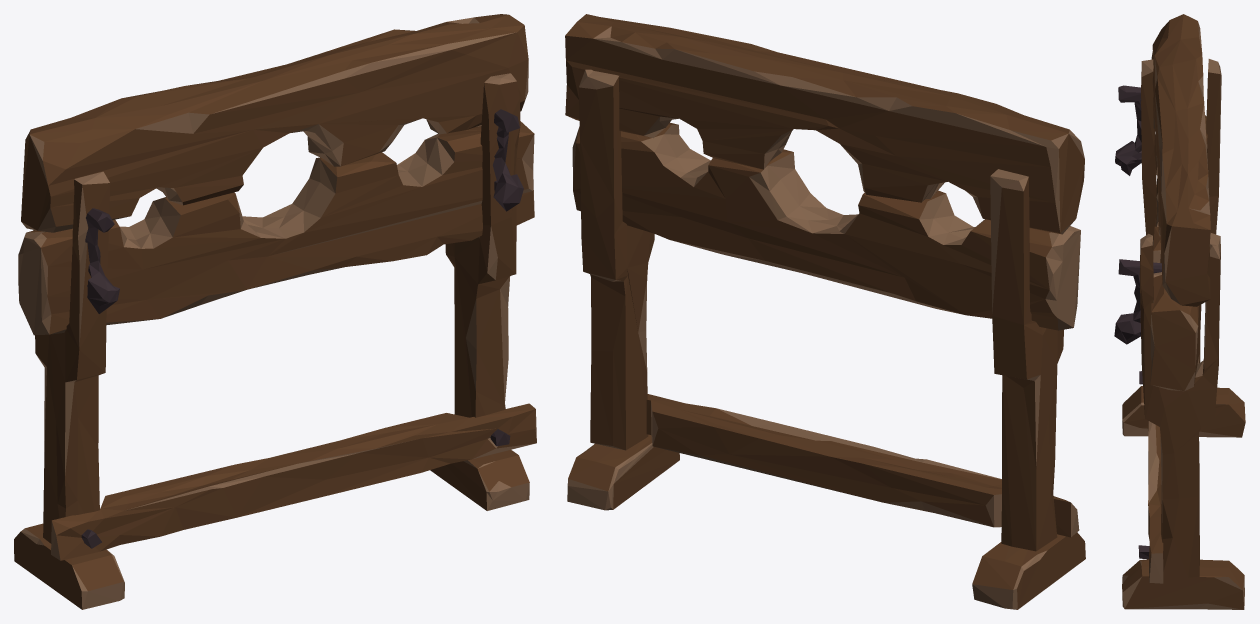
File: MDungeon_Stocks_01.FBX
The picture shows the model from 3 angles, left to right: view 1: azimuth 30°, elevation 25°; view 2: azimuth 150°, elevation 25°; view 3: azimuth 270°, elevation 25°; orthographic projection. The views are drawn at different scales.
Parts seen in each view (by area): view 1: MDungeon_Stocks_01_LOD0; view 2: MDungeon_Stocks_01_LOD0; view 3: MDungeon_Stocks_01_LOD0.
Part boxes in pixels (<box>): MDungeon_Stocks_01_LOD0: <box>14,14,536,609</box>; MDungeon_Stocks_01_LOD0: <box>565,14,1085,609</box>; MDungeon_Stocks_01_LOD0: <box>1114,14,1245,609</box>.
Size of what is drawn, in the model's own units: 1.9 by 1.71 by 0.5073.
